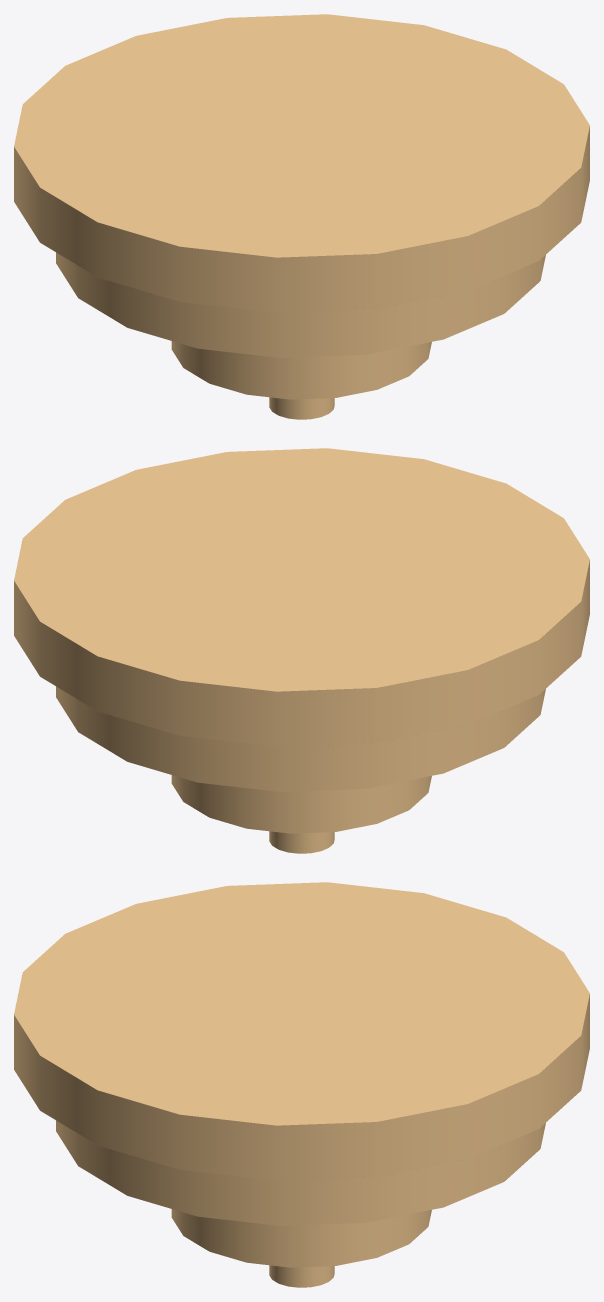
The model's file is chandlierHead.glb.
3 renders of one model, top to bottom at view 1: azimuth 30°, elevation 25°; view 2: azimuth 150°, elevation 25°; view 3: azimuth 270°, elevation 25°, orthographic.
Parts seen in each view (by area): view 1: head; view 2: head; view 3: head.
Boxes of the visible parts, x1,y1,x2,y2 form: head: (14,14,589,419); head: (14,448,589,853); head: (14,882,589,1287).
Bounding box in the file's own units: 0.0789 × 0.0408 × 0.0789.
